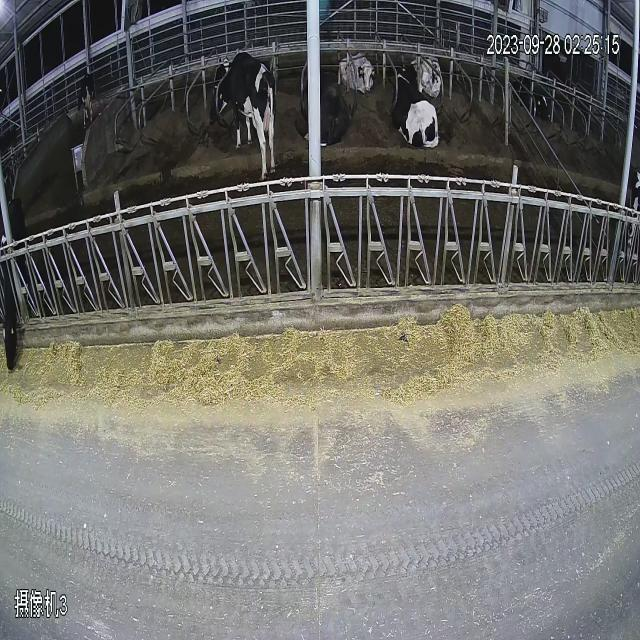lying down: (389, 56, 438, 160)
standing: (218, 60, 290, 192)
